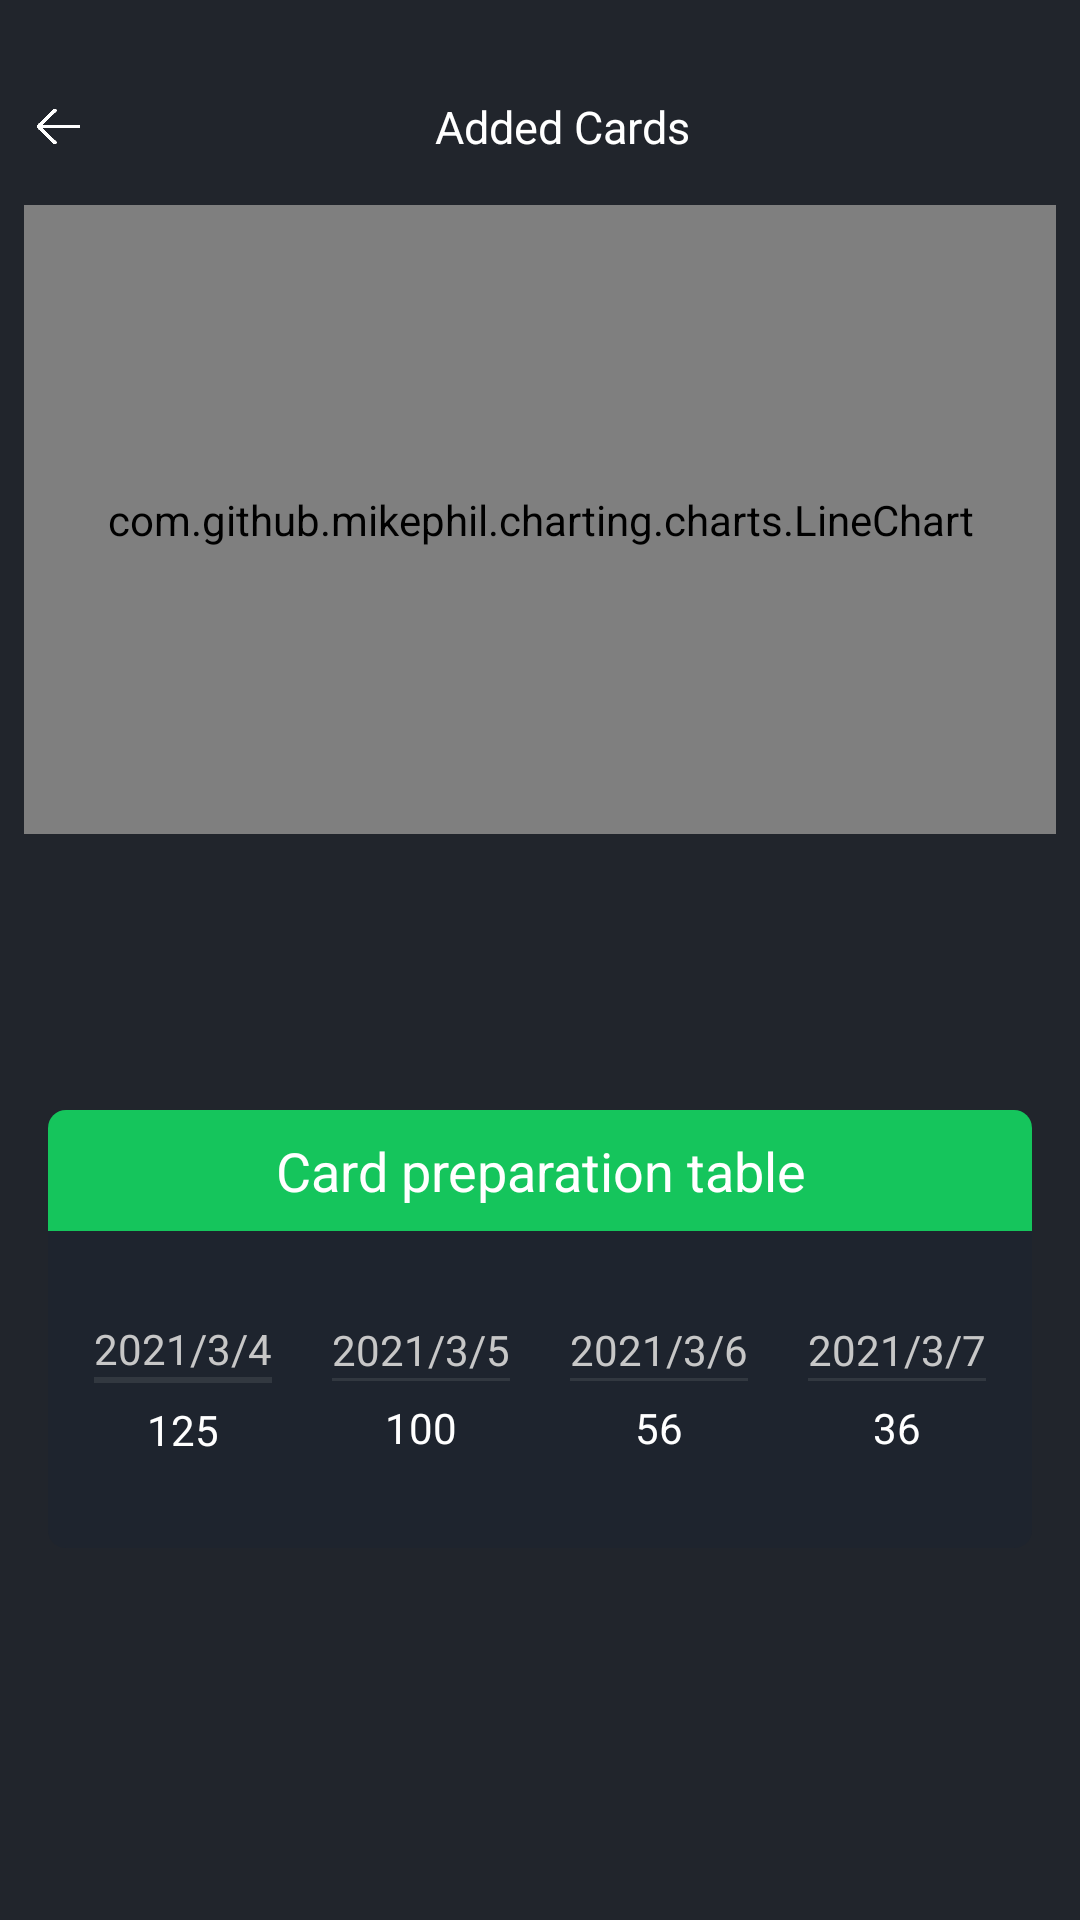

Icon bounding boxes for this 1080 × 1920 phone screenshot, format {"x1": x1, "y1": y1, "x2": x2, "y2": y2}:
back: {"x1": 37, "y1": 109, "x2": 80, "y2": 144}
